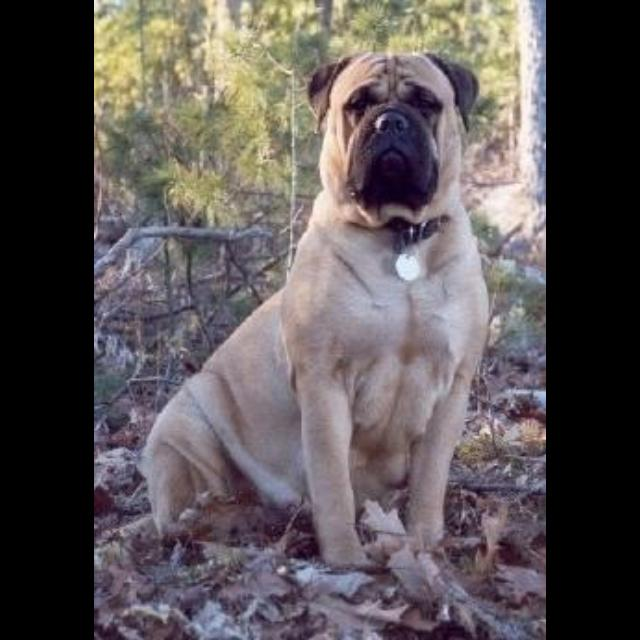bullmastiff: (136, 50, 492, 574)
